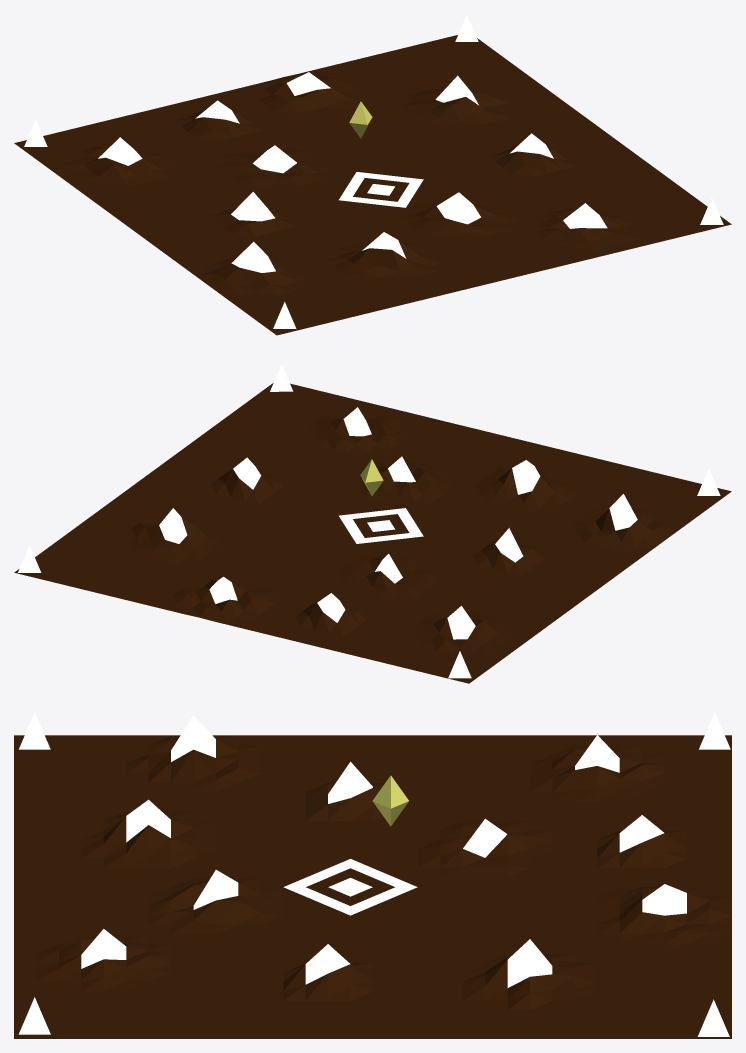
The model's file is Level 3 - Cone world 2.gltf.
3 renders of one model, top to bottom at view 1: azimuth 30°, elevation 25°; view 2: azimuth 150°, elevation 25°; view 3: azimuth 270°, elevation 25°, orthographic. The views are drawn at different scales.
Parts seen in each view (by area): view 1: Floor; view 2: Floor; view 3: Floor, Cone sun, Cone guard 3, Cone guard 2, Cone guard 4, Cone guard 1.
Part boxes in pixels (x1,y1,x2,y2): Floor: [14, 35, 731, 335]; Floor: [14, 383, 731, 683]; Floor: [14, 715, 731, 1038]; Cone sun: [372, 775, 408, 826]; Cone guard 3: [18, 997, 50, 1034]; Cone guard 2: [699, 712, 730, 749]; Cone guard 4: [19, 712, 50, 749]; Cone guard 1: [697, 999, 729, 1036].
Size of the model in its own units: 622 by 104 by 622.
